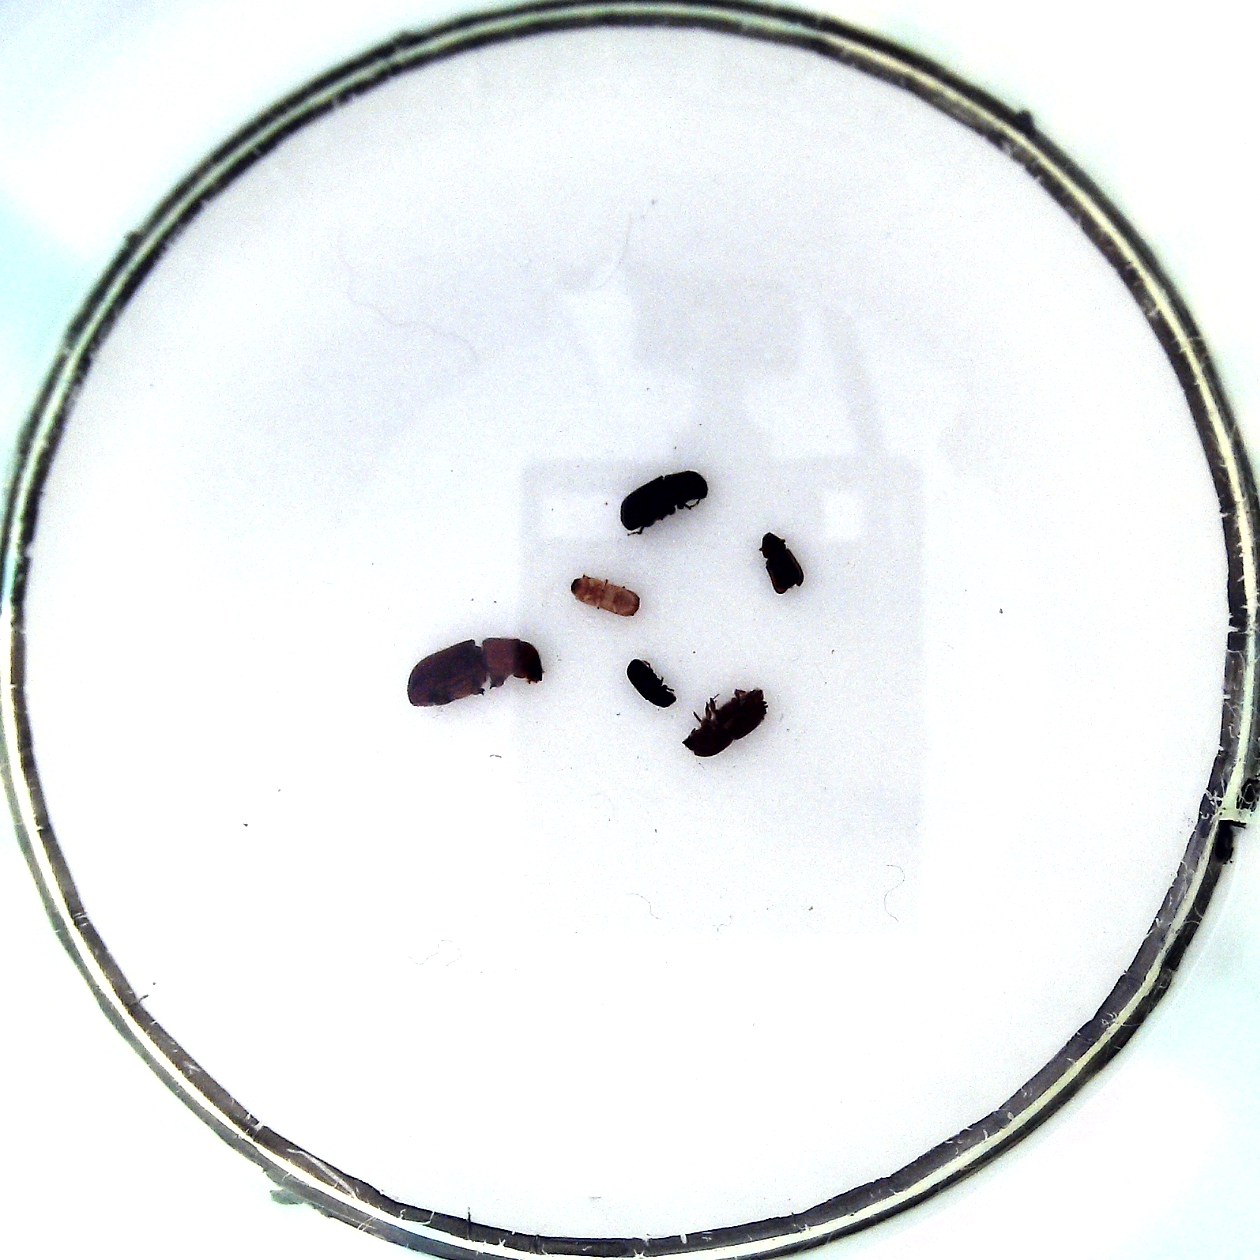Leconte: (407, 638, 543, 707)
acuminatus: (627, 658, 676, 707)
armandi: (620, 470, 708, 530)
coleoptera: (571, 576, 640, 617), (762, 532, 804, 594)
linnaeus: (682, 690, 767, 757)
